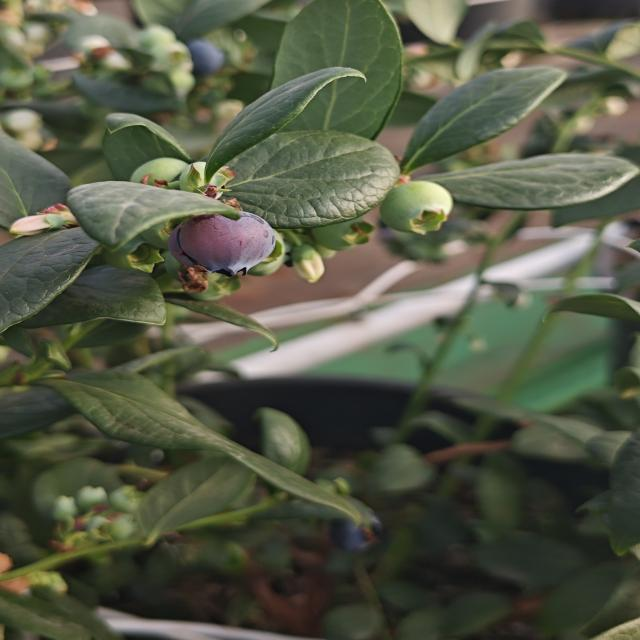ripe: (313, 504, 394, 556), (175, 35, 231, 82)
